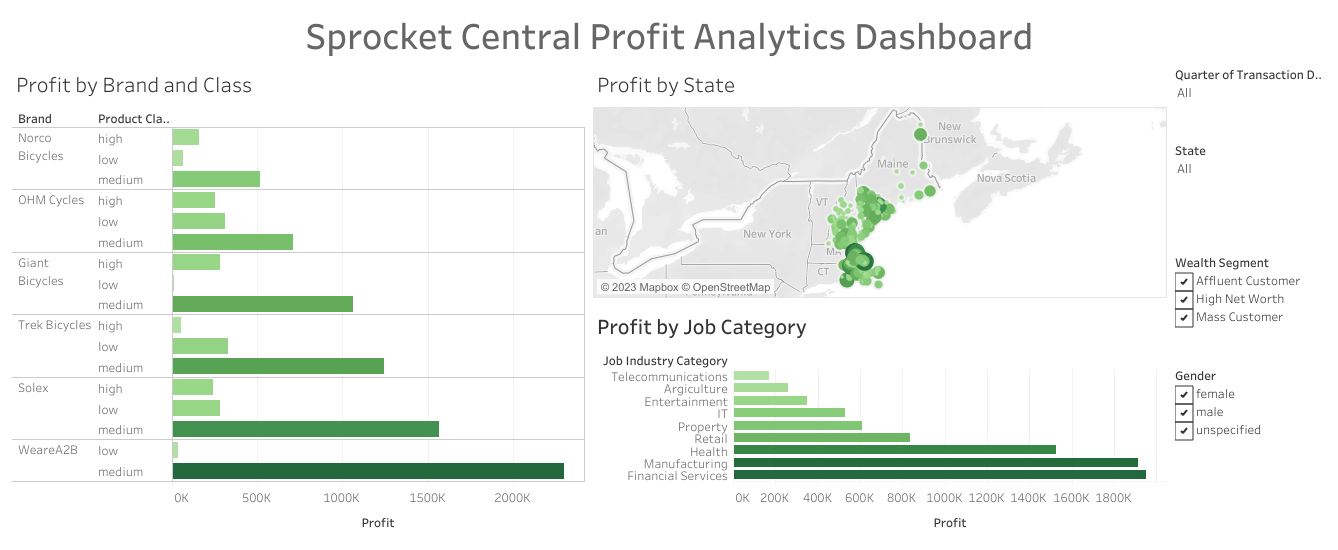

What the dashboard file says about the page in this screenshot:
{"tool":"tableau","page":{"name":"Profit Dashboard","canvas":[1000,1000],"units":"permille","ordinal":0},"visuals":[{"type":"text","box":[7,13.5,986.1,94.6]},{"type":"worksheet","title":"Profit by Brand and Class","mark":"Automatic","rows":["brand","product_class"],"cols":["Calculation_665406912761696256"],"box":[7,108.1,423.4,878.4]},{"type":"worksheet","title":"Profit by State","mark":"Automatic","box":[430.4,108.1,423.4,439.2]},{"type":"filter","title":"Profit by Job Category","param":"[federated.0y7ljbp0chxm8y146ktpe14ixasf].[qr:transaction_date:ok]","box":[853.8,108.1,139.2,126.7]},{"type":"filter","title":"Profit by State","param":"[federated.0y7ljbp0chxm8y146ktpe14ixasf].[none:state:nk]","box":[853.8,234.8,139.2,189.2]},{"type":"filter","title":"Profit by State","param":"[federated.0y7ljbp0chxm8y146ktpe14ixasf].[none:wealth_segment:nk]","box":[853.8,424,139.2,182.4]},{"type":"worksheet","title":"Profit by Job Category","mark":"Automatic","rows":["job_industry_category"],"cols":["Calculation_665406912761696256"],"box":[430.4,547.3,423.4,439.2]},{"type":"filter","title":"Profit by Brand and Class","param":"[federated.0y7ljbp0chxm8y146ktpe14ixasf].[none:gender:nk]","box":[853.8,606.4,139.2,182.4]}]}

Visuals, with their boxes on the dashboard's canvas, which has no fixed pixel size, in thousandths of its width and height (x1, y1, x2, y2). These are canvas units, not pixel positions in the 1338x550 screenshot, which may show the page scaled, cropped or inside an application window:
text: box(7, 14, 993, 108)
"Profit by Brand and Class" worksheet: box(7, 108, 430, 986)
"Profit by State" worksheet: box(430, 108, 854, 547)
"Profit by Job Category" filter: box(854, 108, 993, 235)
"Profit by State" filter: box(854, 235, 993, 424)
"Profit by State" filter: box(854, 424, 993, 606)
"Profit by Job Category" worksheet: box(430, 547, 854, 986)
"Profit by Brand and Class" filter: box(854, 606, 993, 789)
